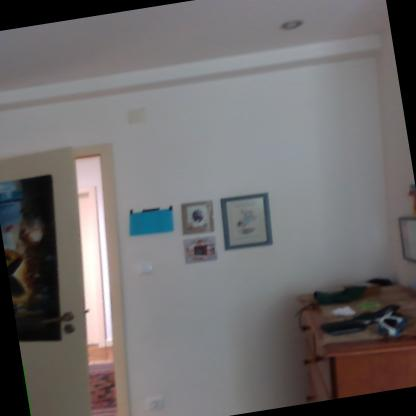semi: (0, 120, 160, 415)
